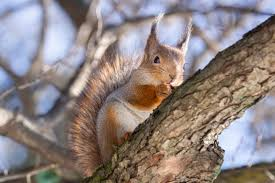Ardilla: (96, 9, 203, 139)
